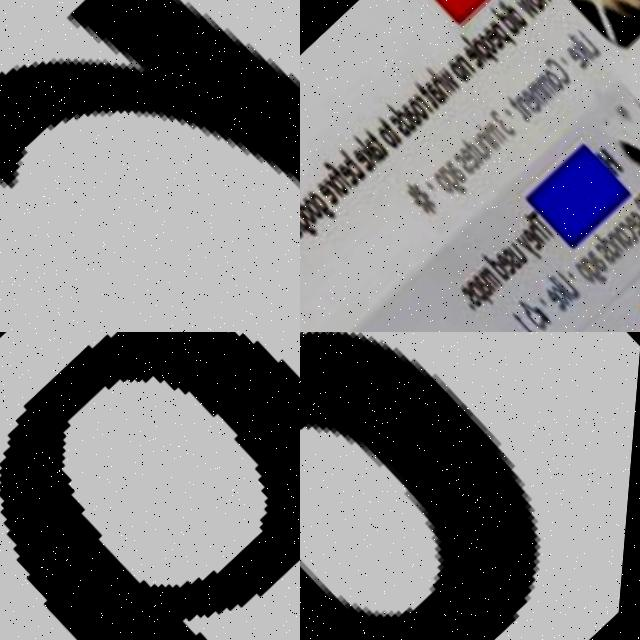0: (631, 189, 640, 222)
1: (512, 305, 547, 332)
3: (486, 103, 520, 135)
9: (0, 332, 300, 640)
D: (300, 332, 627, 640)
R: (0, 0, 300, 332)
